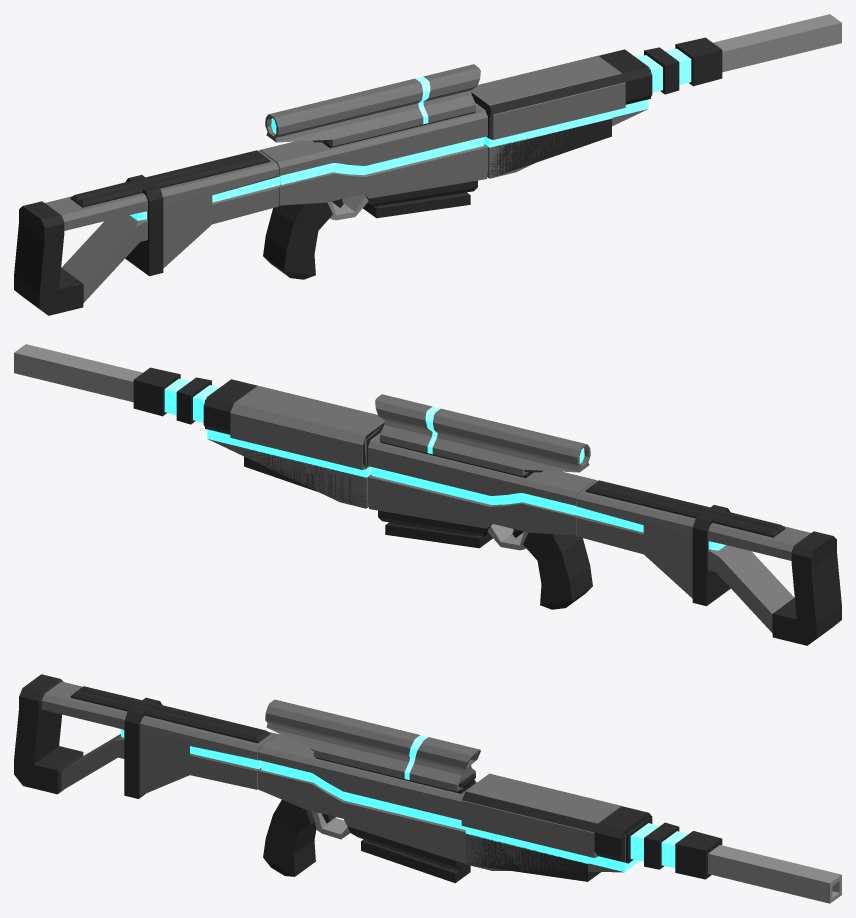
File: guns.fbx
3 renders of one model, top to bottom at view 1: azimuth 30°, elevation 25°; view 2: azimuth 150°, elevation 25°; view 3: azimuth 330°, elevation 25°, orthographic.
Visible parts, largest first — view 1: Pistol, Sniper_att, Stock_large, Scope, Stock_small, Rifle_att, Ammo; view 2: Pistol, Sniper_att, Stock_large, Scope, Stock_small, Rifle_att, Ammo; view 3: Sniper_att, Pistol, Stock_large, Scope, Rifle_att, Stock_small, Ammo.
Part boxes in pixels (x1,y1,x2,y2): Pistol: (260, 103, 487, 279); Sniper_att: (471, 14, 841, 178); Stock_large: (14, 150, 279, 315); Scope: (265, 64, 480, 146); Stock_small: (125, 150, 279, 276); Rifle_att: (471, 49, 652, 178); Ammo: (363, 192, 470, 218); Pistol: (368, 433, 595, 609); Sniper_att: (14, 344, 384, 508); Stock_large: (576, 480, 841, 645); Scope: (375, 394, 590, 476); Stock_small: (576, 480, 730, 606); Rifle_att: (203, 379, 384, 508); Ammo: (385, 522, 492, 548); Sniper_att: (461, 773, 841, 903); Pistol: (258, 734, 476, 876); Stock_large: (14, 674, 276, 794); Scope: (265, 699, 480, 791); Rifle_att: (462, 791, 652, 872); Stock_small: (124, 697, 276, 798); Ammo: (361, 839, 470, 883).
Size of the model in its own units: 103 by 1516 by 290.
